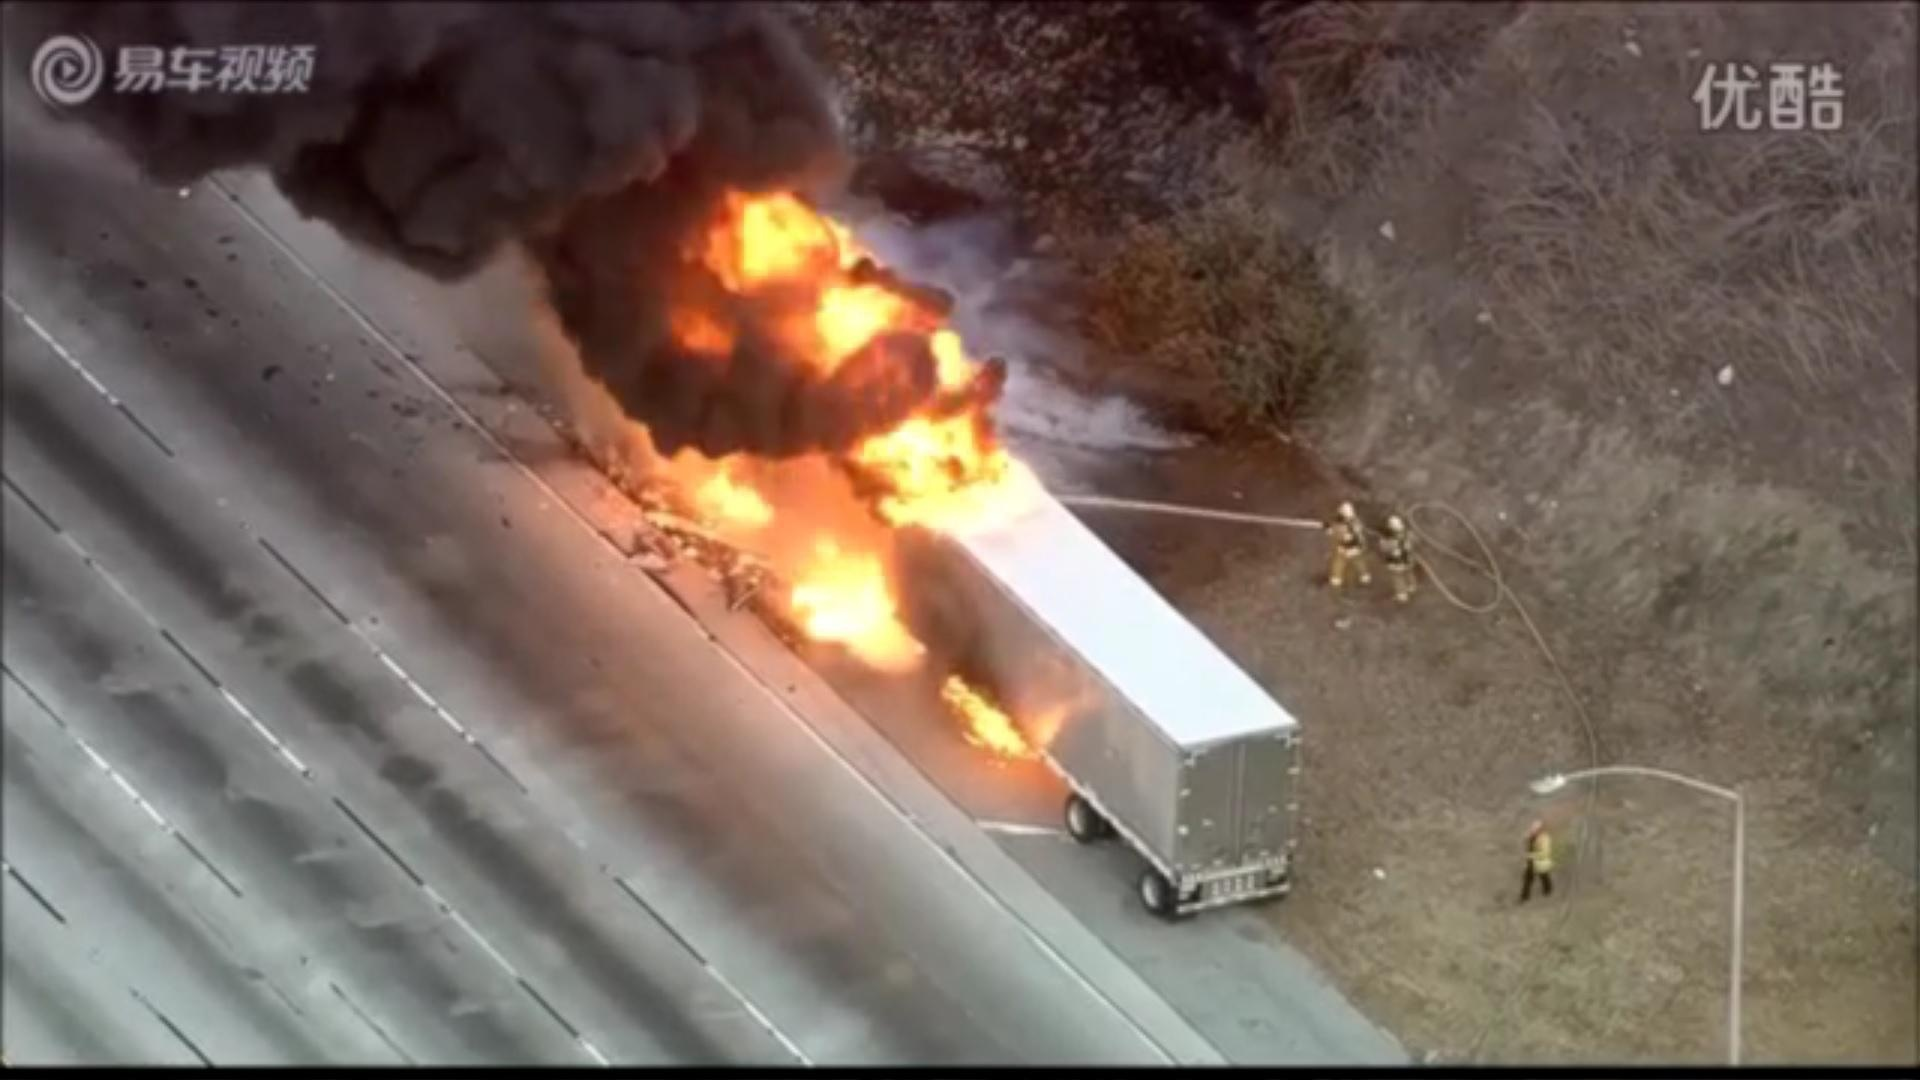fire: (789, 537, 907, 659), (944, 678, 1031, 760)
